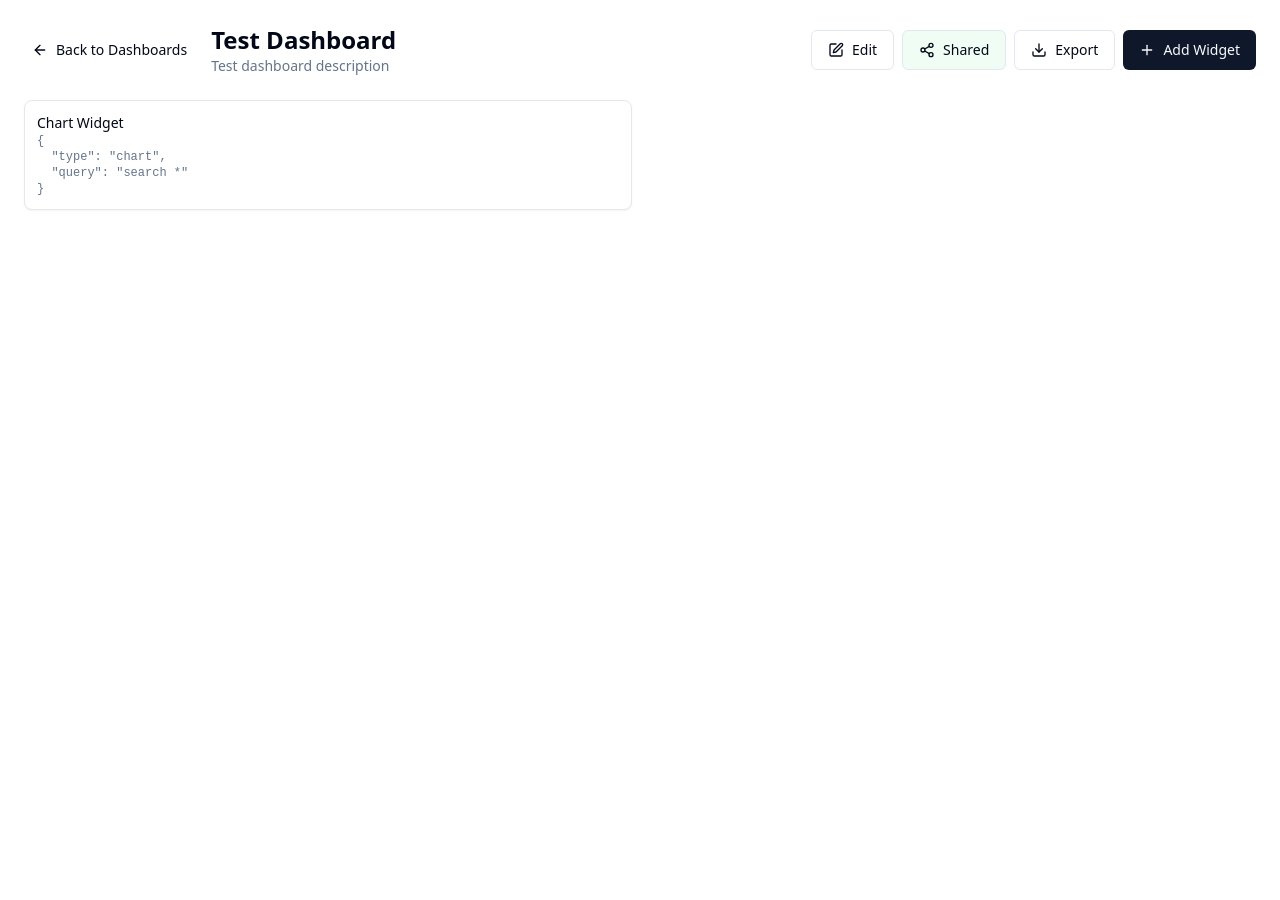
Test case: Dashboard Sharing › shows share link when dashboard is shared
expect the heading "Test Dashboard" is shown: met, box x1=211 y1=24 x2=396 y2=56
Click the button "Shared" at (954, 50), box x1=902 y1=30 x2=1006 y2=70
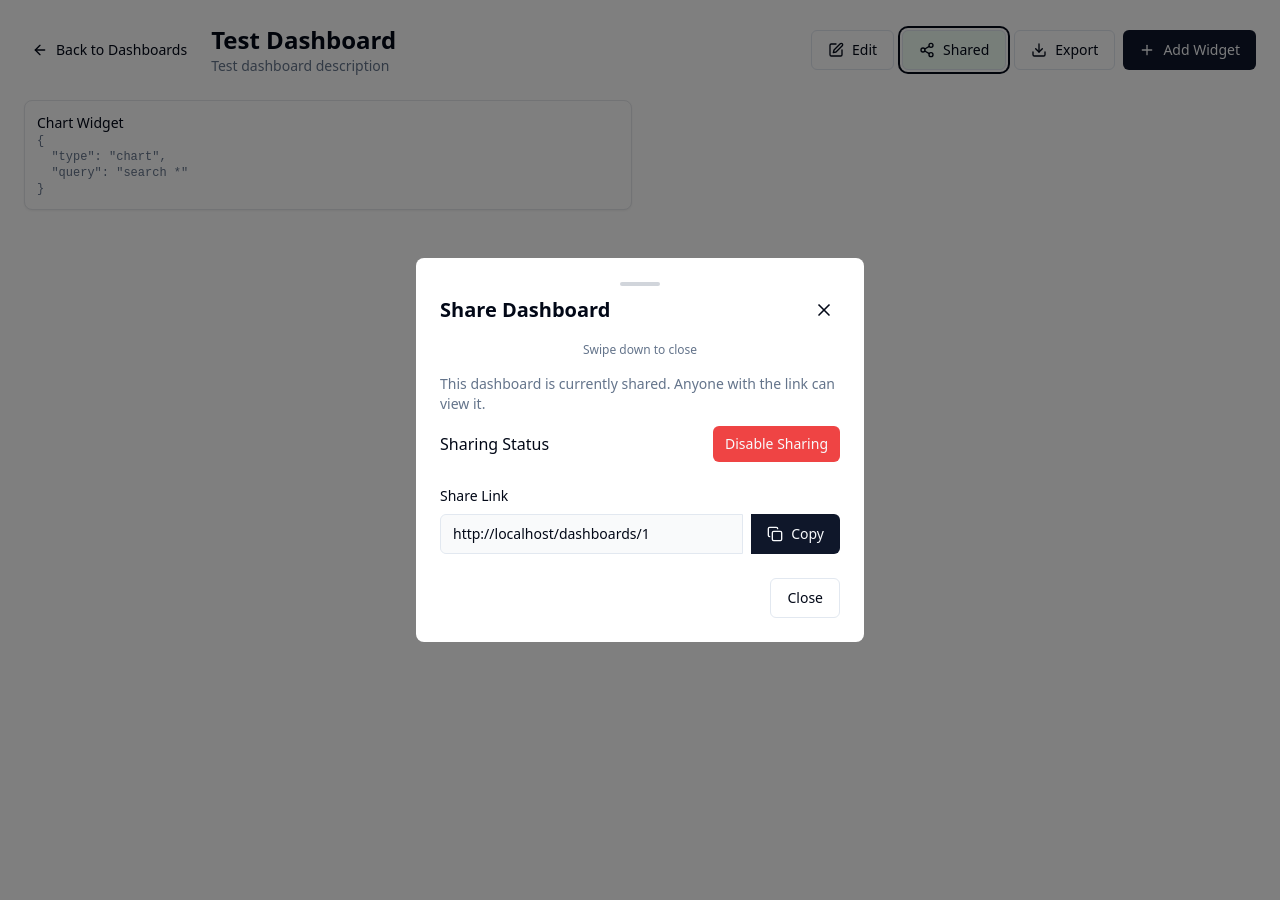
expect the text "This dashboard is currently shared. Anyone with the link can view it." is shown: met, box x1=440 y1=374 x2=840 y2=414
expect the text "Share Link" is shown: met, box x1=440 y1=486 x2=508 y2=505
